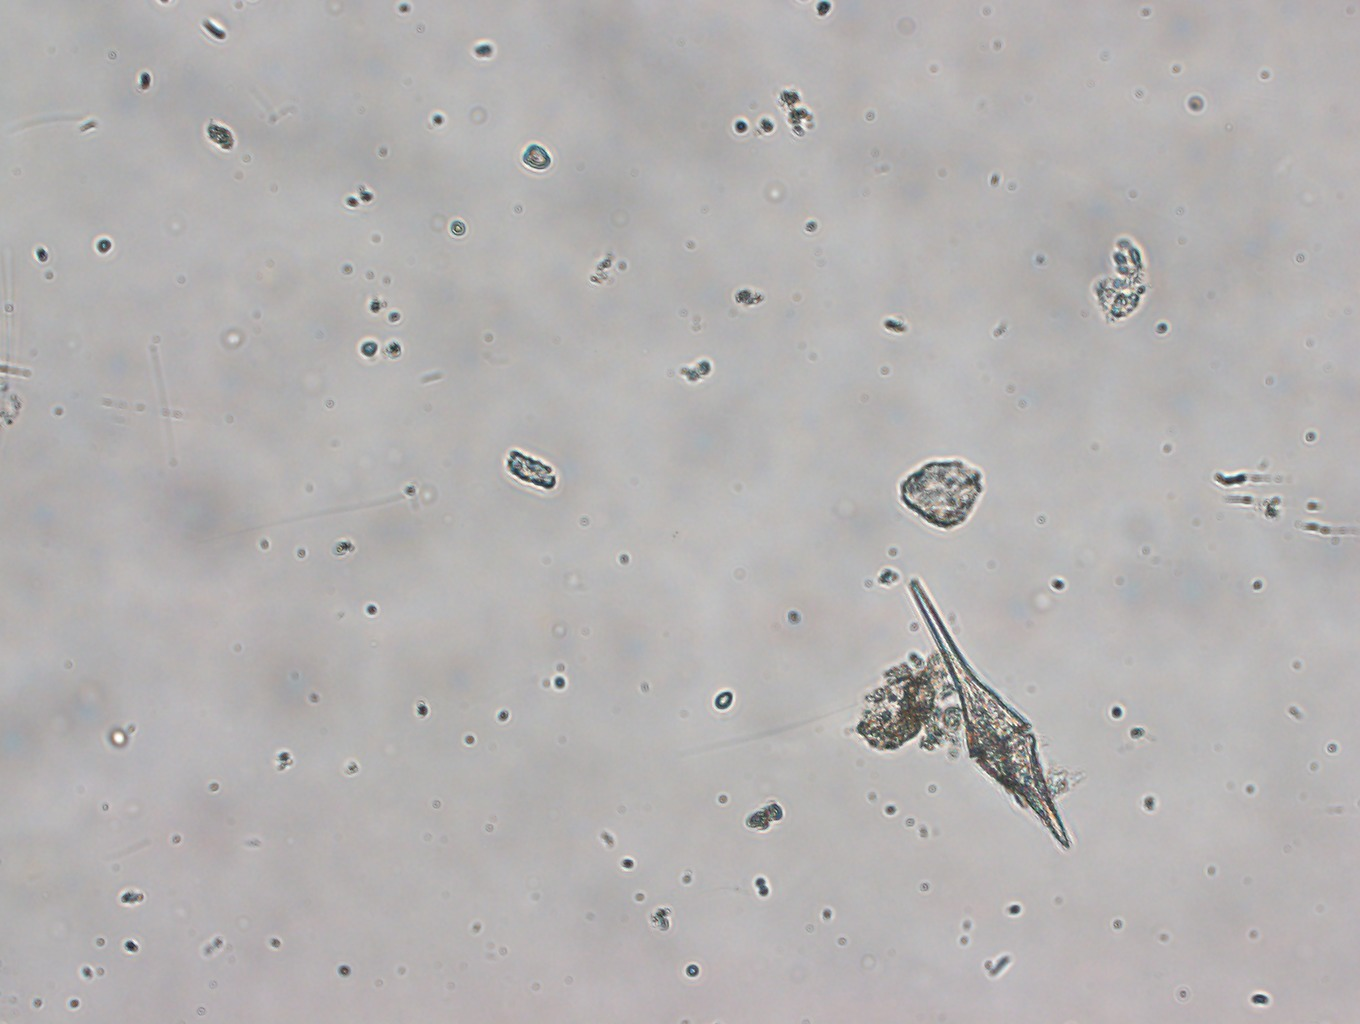ceratium furca: (906, 575, 1074, 853)
